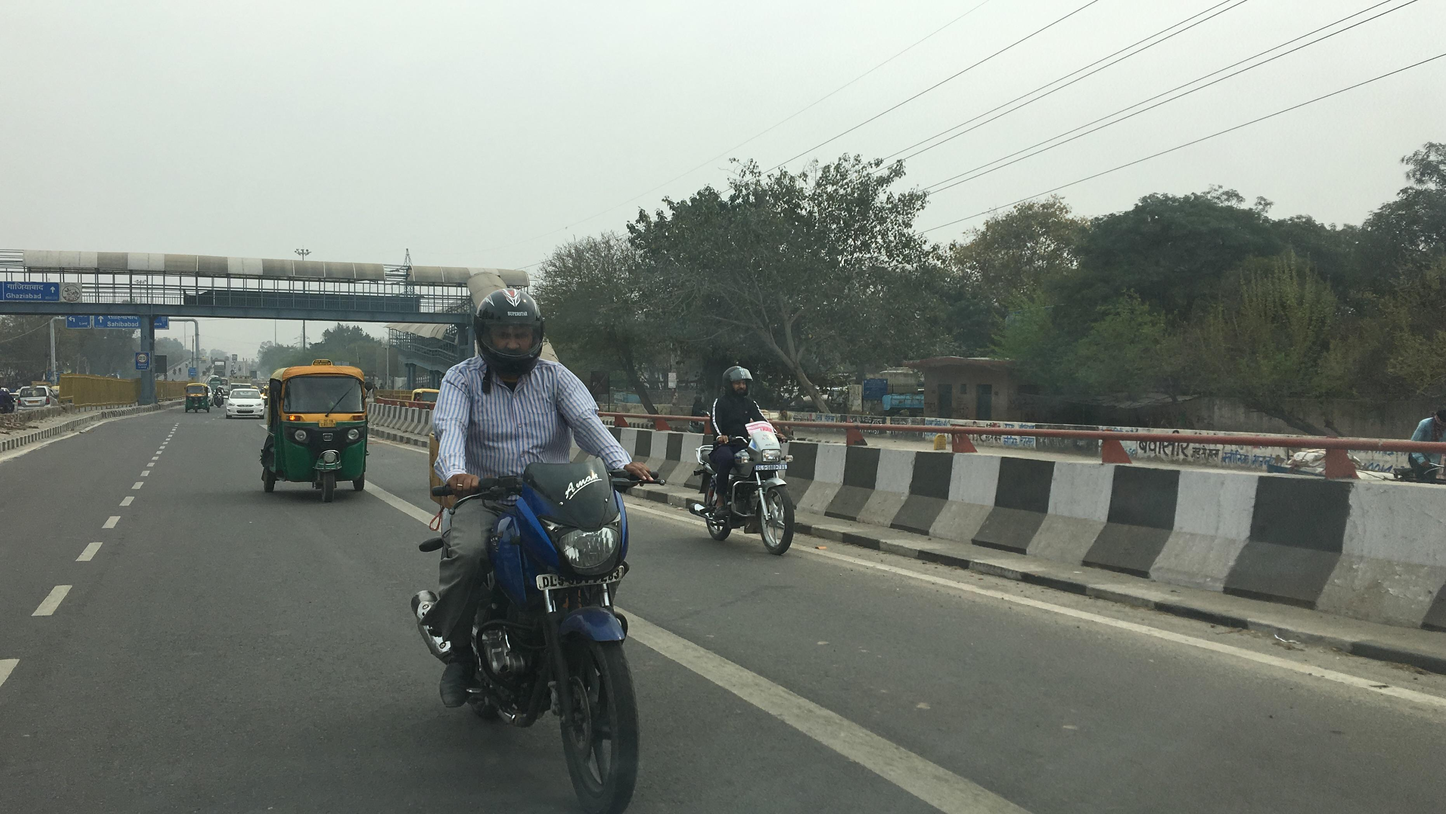helmet: (472, 288, 545, 377), (721, 365, 753, 400)
